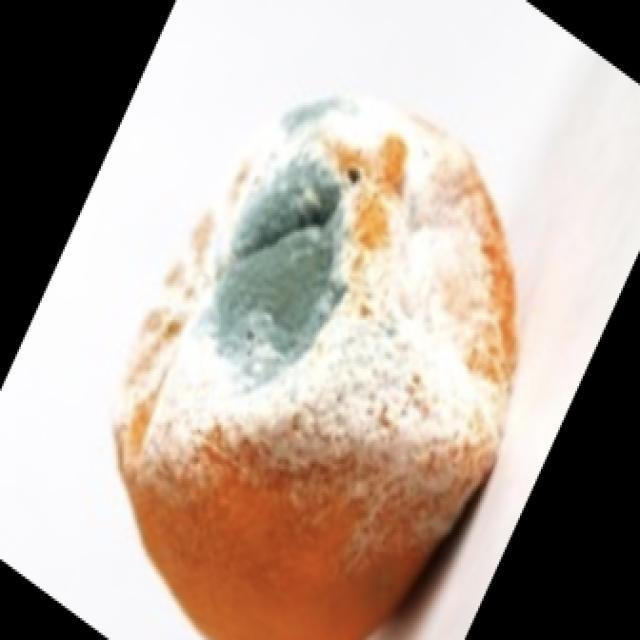sangat-busuk: (118, 99, 517, 639)
